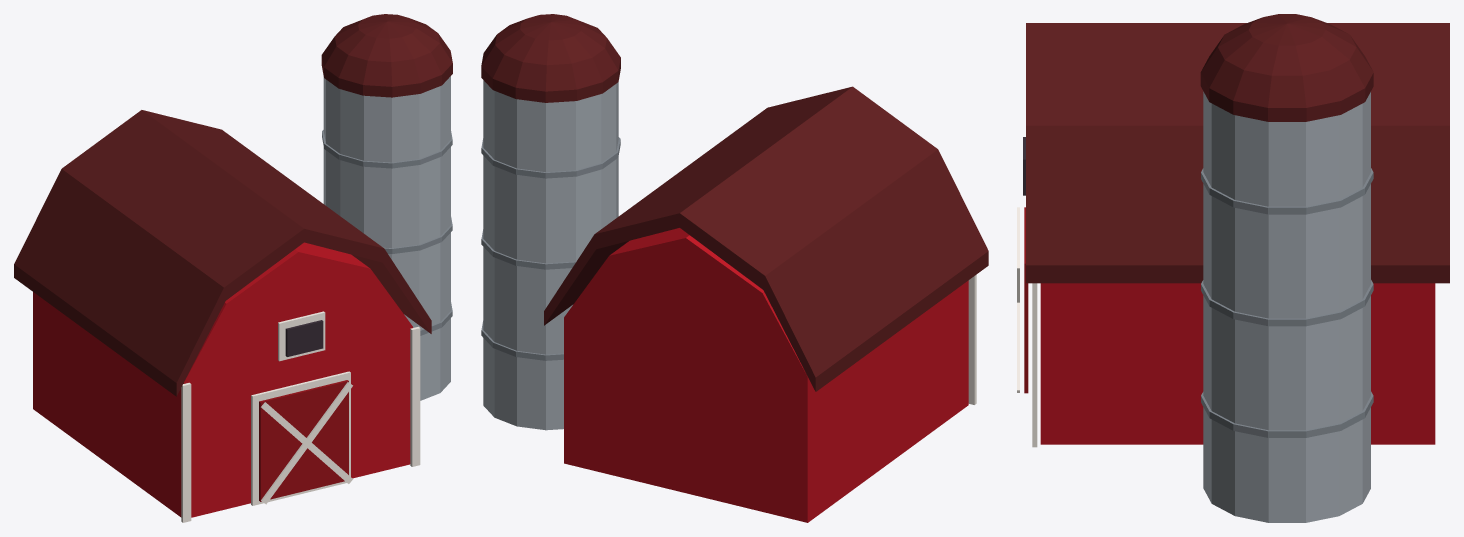
File: barn.glb
The picture shows the model from 3 angles, left to right: view 1: azimuth 30°, elevation 25°; view 2: azimuth 150°, elevation 25°; view 3: azimuth 270°, elevation 25°; orthographic projection. The views are drawn at different scales.
Parts seen in each view (by area): view 1: barn; view 2: barn; view 3: barn.
Boxes of the visible parts, x1,y1,x2,y2 form: barn: (14, 14, 452, 522); barn: (481, 14, 988, 522); barn: (1017, 14, 1449, 522).
Size of the model in its own units: 11.21 by 10.4 by 8.78.
